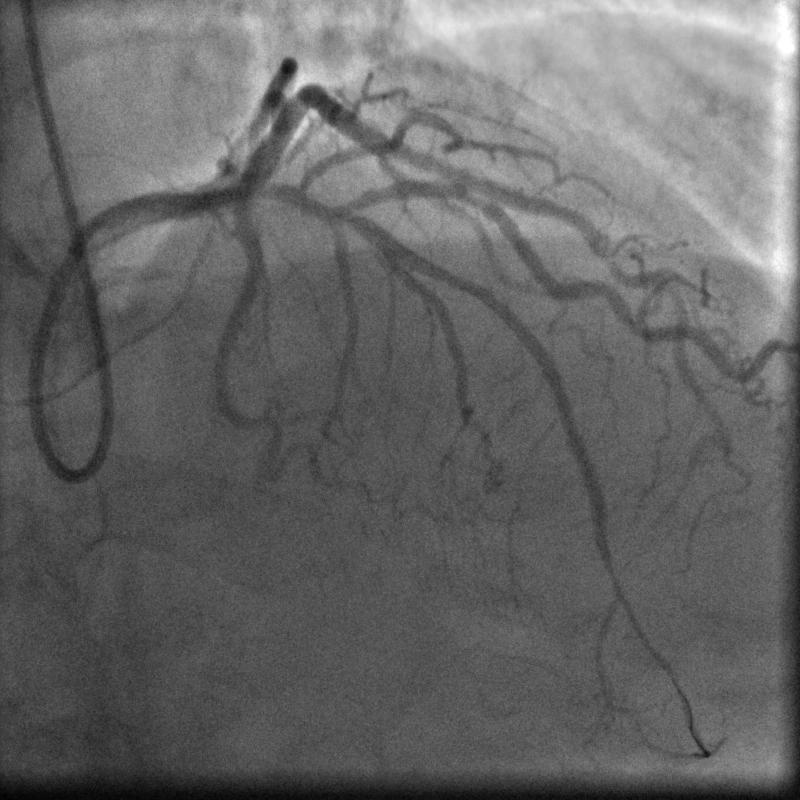Stenosis: (448, 178, 499, 222)
